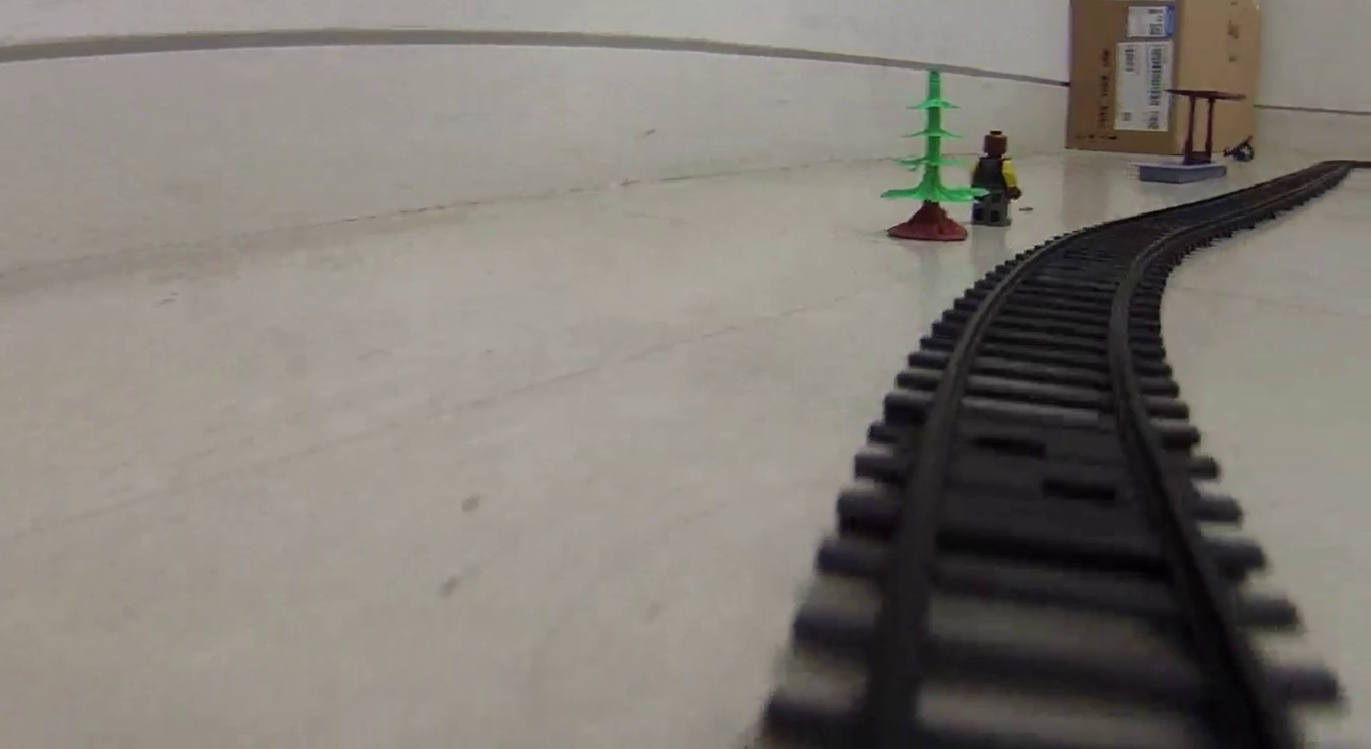people: (970, 128, 1019, 227)
tree: (881, 70, 972, 241)
